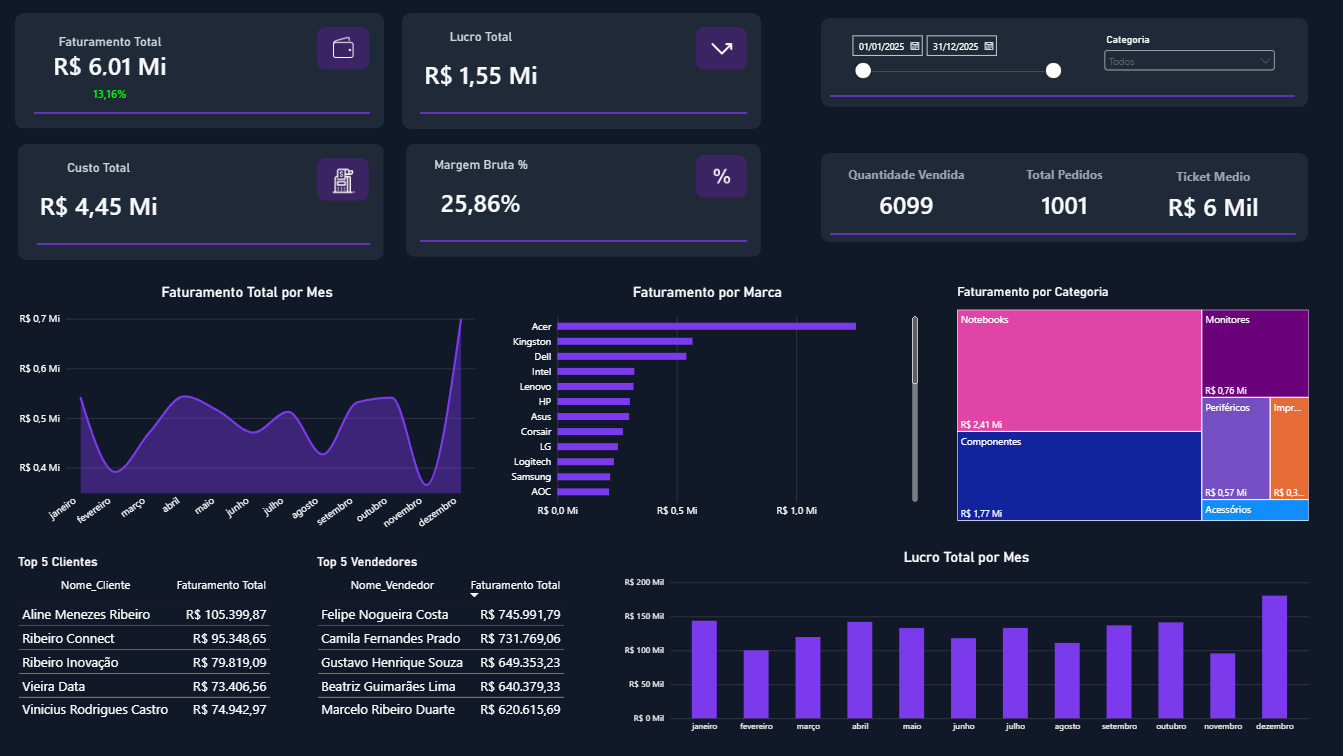

The dashboard page shown, as its layout file describes it:
{"tool":"powerbi","page":{"name":"Visão Geral","canvas":[1920,1080],"ordinal":0},"visuals":[{"type":"group","id":"g1","title":"Grupo 2","box":[21.4,18.6,527.1,164.3],"z":0},{"type":"shape","box":[21.4,18.6,527.5,165],"z":0,"group":"g1"},{"type":"shape","box":[574.3,18.6,512.9,165.7],"z":0,"group":"g3"},{"type":"shape","box":[453.4,38.5,74.9,61.2],"z":0,"group":"g4"},{"type":"shape","box":[994.3,38.6,72.9,61.4],"z":0,"group":"g5"},{"type":"shape","box":[26,205.7,522.6,165.7],"z":0,"group":"g2"},{"type":"shape","box":[580.6,205.7,507.1,161.4],"z":0,"group":"g6"},{"type":"shape","box":[994.3,221.5,72.9,61.4],"z":0,"group":"g7"},{"type":"shape","box":[453.5,225.5,74.2,61.4],"z":0,"group":"g8"},{"type":"shape","box":[1172.9,25.7,695.7,127.1],"z":1000},{"type":"image","box":[474,35.7,35.3,65.4],"z":1000,"group":"g4"},{"type":"image","box":[1014.3,35.7,34.3,65.7],"z":1000,"group":"g5"},{"type":"shape","box":[47.8,138.1,480.5,45.5],"z":1000,"group":"g1"},{"type":"shape","box":[600,138.6,467.1,45.7],"z":1000,"group":"g3"},{"type":"group","id":"g2","title":"Grupo 2","box":[11.4,205.7,537.1,165.7],"z":1000},{"type":"image","box":[1014.3,218.6,34.3,65.7],"z":1000,"group":"g7"},{"type":"shape","box":[1172.9,218.6,695.7,127.1],"z":1000,"group":"g9"},{"type":"image","box":[470.4,225.5,41.6,63.5],"z":1000,"group":"g8"},{"type":"shape","box":[600,321.5,467.1,45.7],"z":1000,"group":"g6"},{"type":"shape","box":[52.2,325.7,476,45.7],"z":1000,"group":"g2"},{"type":"group","id":"g3","title":"Grupo 2","box":[560,18.6,528.6,165.7],"z":2000},{"type":"cardVisual","title":"Lucro Total","fields":{"Data":["medidas.Lucro Total"]},"box":[560,41.5,254.3,97.1],"z":2000,"group":"g3"},{"type":"cardVisual","title":"Faturamento Total","fields":{"Data":["medidas.Total Faturamento"]},"box":[47.8,48.5,217.1,96.1],"z":2000,"group":"g1"},{"type":"shape","box":[1185.7,114.3,664.3,45.7],"z":2000},{"type":"cardVisual","title":"Margem Bruta %","fields":{"Data":["medidas.Margem Bruta %"]},"box":[560,224.4,254.3,97.1],"z":2000,"group":"g6"},{"type":"cardVisual","title":"Custo Total","fields":{"Data":["medidas.Custo Total"]},"box":[11.4,228.6,259.1,97.1],"z":2000,"group":"g2"},{"type":"shape","box":[1185.8,311.5,665,45.7],"z":2000,"group":"g9"},{"type":"group","id":"g4","title":"Grupo 1","box":[453.4,35.7,74.9,65.4],"z":3000,"group":"g1"},{"type":"group","id":"g5","title":"Grupo 1","box":[994.3,35.7,72.9,65.7],"z":3000,"group":"g3"},{"type":"group","id":"g6","title":"Grupo 2","box":[560,205.7,527.1,161.4],"z":3000},{"type":"group","id":"g7","title":"Grupo 1","box":[994.3,218.6,72.9,65.7],"z":3000,"group":"g6"},{"type":"group","id":"g8","title":"Grupo 1","box":[453.5,225.5,74.2,63.5],"z":3000,"group":"g2"},{"type":"areaChart","fields":{"Category":["dim_calendario.Mes"],"Y":["medidas faturamento.Faturamento Total"]},"box":[11.4,391.4,682.9,397.1],"z":4000},{"type":"barChart","title":"Faturamento por Marca","fields":{"Category":["dim_produtos.Marca"],"Y":["medidas faturamento.Faturamento Total"]},"box":[694.3,391.4,632.9,368.6],"z":5000},{"type":"tableEx","title":"Top 5 Clientes","fields":{"Values":["dim_clientes.Nome_Cliente","medidas faturamento.Faturamento Total"]},"box":[25.7,791.4,395.7,275.7],"z":6000},{"type":"treemap","title":"Faturamento por Categoria","fields":{"Details":["dim_produtos.Categoria"],"Values":["medidas faturamento.Faturamento Total"]},"box":[1351.4,391.4,534.3,368.6],"z":7000},{"type":"cardVisual","fields":{"Data":["medidas.Quantidade Vendida"]},"box":[1172.9,220,244.3,112.9],"z":8000,"group":"g9"},{"type":"tableEx","title":"Top 5 Vendedores","fields":{"Values":["dim_vendedores.Nome_Vendedor","medidas faturamento.Faturamento Total"]},"box":[452.9,791.4,395.7,275.7],"z":8000},{"type":"group","id":"g9","title":"Grupo 3","box":[1172.9,218.6,695.7,138.6],"z":9000},{"type":"cardVisual","fields":{"Data":["medidas.Total Pedidos"]},"box":[1417.2,220,207.1,112.9],"z":9000,"group":"g9"},{"type":"slicer","fields":{"Values":["dim_calendario.Date"]},"box":[1210,45.7,311.4,102.9],"z":10000},{"type":"cardVisual","fields":{"Data":["medidas.Ticket Medio"]},"box":[1624.3,222.9,218.4,112.9],"z":10000,"group":"g9"},{"type":"slicer","fields":{"Values":["dim_produtos.Categoria"]},"box":[1572.9,48.6,252.9,65.7],"z":11000},{"type":"columnChart","fields":{"Category":["dim_calendario.Mes"],"Y":["medidas.Lucro Total"]},"box":[875.7,770,1010,297.1],"z":11001}]}

Visuals, with their boxes in screenshot pixels (x1, y1, x2, y2), scaled from the page's 1920x1080 canvas onto the 1343x756 screenshot:
"Grupo 2" group: left=15, top=13, right=384, bottom=128
shape: left=15, top=13, right=384, bottom=129
shape: left=402, top=13, right=760, bottom=129
shape: left=317, top=27, right=370, bottom=70
shape: left=695, top=27, right=746, bottom=70
shape: left=18, top=144, right=384, bottom=260
shape: left=406, top=144, right=761, bottom=257
shape: left=695, top=155, right=746, bottom=198
shape: left=317, top=158, right=369, bottom=201
shape: left=820, top=18, right=1307, bottom=107
image: left=332, top=25, right=356, bottom=71
image: left=709, top=25, right=733, bottom=71
shape: left=33, top=97, right=370, bottom=129
shape: left=420, top=97, right=746, bottom=129
"Grupo 2" group: left=8, top=144, right=384, bottom=260
image: left=709, top=153, right=733, bottom=199
shape: left=820, top=153, right=1307, bottom=242
image: left=329, top=158, right=358, bottom=202
shape: left=420, top=225, right=746, bottom=257
shape: left=37, top=228, right=369, bottom=260
"Grupo 2" group: left=392, top=13, right=761, bottom=129
"Lucro Total" cardVisual: left=392, top=29, right=570, bottom=97
"Faturamento Total" cardVisual: left=33, top=34, right=185, bottom=101
shape: left=829, top=80, right=1294, bottom=112
"Margem Bruta %" cardVisual: left=392, top=157, right=570, bottom=225
"Custo Total" cardVisual: left=8, top=160, right=189, bottom=228
shape: left=829, top=218, right=1295, bottom=250
"Grupo 1" group: left=317, top=25, right=370, bottom=71
"Grupo 1" group: left=695, top=25, right=746, bottom=71
"Grupo 2" group: left=392, top=144, right=760, bottom=257
"Grupo 1" group: left=695, top=153, right=746, bottom=199
"Grupo 1" group: left=317, top=158, right=369, bottom=202
areaChart - dim_calendario.Mes x medidas faturamento.Faturamento Total: left=8, top=274, right=486, bottom=552
"Faturamento por Marca" barChart: left=486, top=274, right=928, bottom=532
"Top 5 Clientes" tableEx: left=18, top=554, right=295, bottom=747
"Faturamento por Categoria" treemap: left=945, top=274, right=1319, bottom=532
cardVisual - medidas.Quantidade Vendida: left=820, top=154, right=991, bottom=233
"Top 5 Vendedores" tableEx: left=317, top=554, right=594, bottom=747
"Grupo 3" group: left=820, top=153, right=1307, bottom=250
cardVisual - medidas.Total Pedidos: left=991, top=154, right=1136, bottom=233
slicer - dim_calendario.Date: left=846, top=32, right=1064, bottom=104
cardVisual - medidas.Ticket Medio: left=1136, top=156, right=1289, bottom=235
slicer - dim_produtos.Categoria: left=1100, top=34, right=1277, bottom=80
columnChart - dim_calendario.Mes x medidas.Lucro Total: left=613, top=539, right=1319, bottom=747
